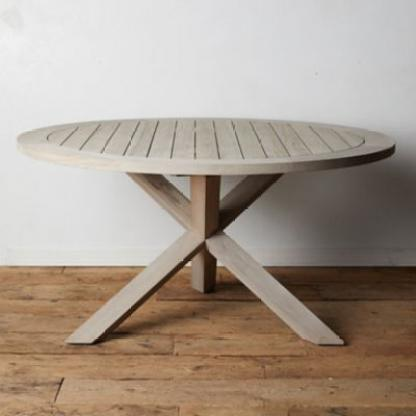table: (12, 110, 398, 348)
